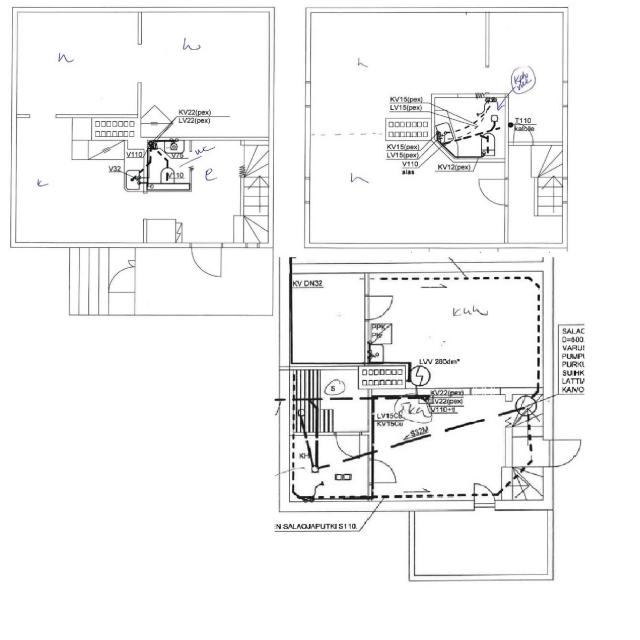door: (192, 243, 222, 277), (544, 440, 580, 466), (478, 179, 509, 205), (108, 267, 138, 293), (365, 296, 394, 320), (474, 481, 495, 512), (368, 461, 396, 484), (337, 432, 360, 459), (514, 122, 534, 145), (128, 260, 138, 266)
